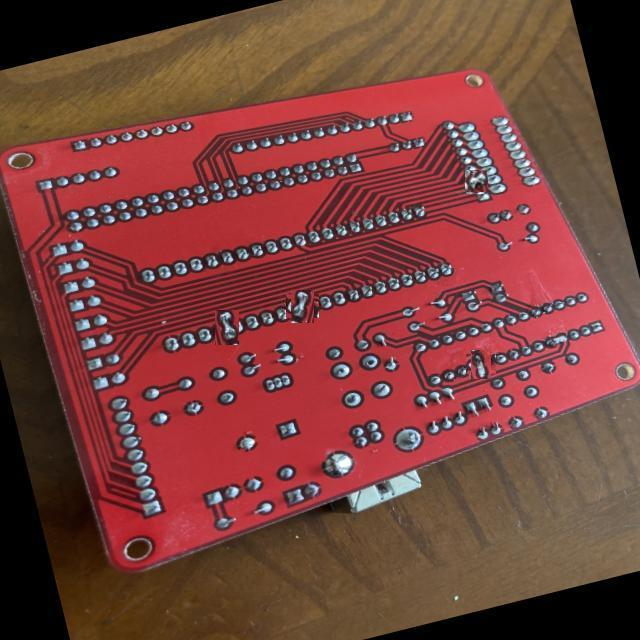damged: (212, 312, 242, 342), (288, 292, 317, 321), (541, 329, 572, 350), (469, 351, 494, 377), (465, 171, 488, 193)
